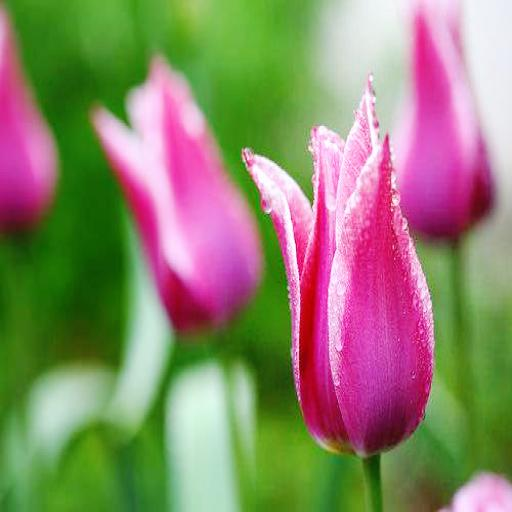tulip: (243, 68, 436, 460)
